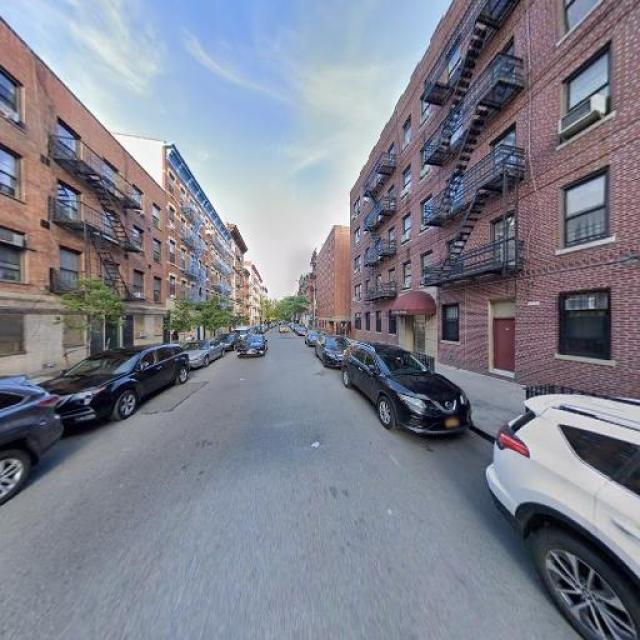Building: (353, 1, 640, 407), (1, 19, 165, 395)
